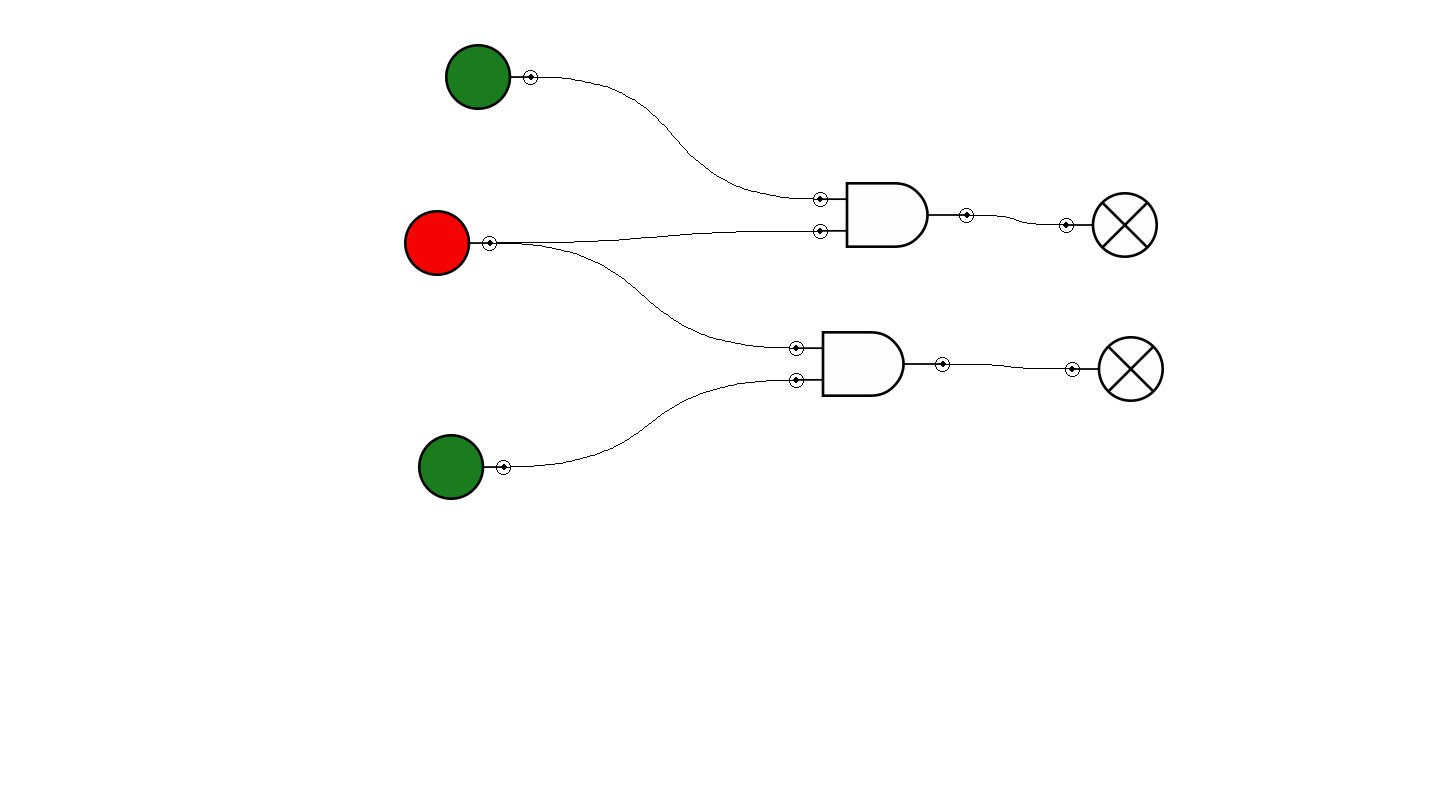and: (789, 331, 950, 397), (813, 182, 974, 248)
bulb: (1059, 192, 1158, 258), (1065, 336, 1164, 402)
switch_False: (404, 210, 497, 276)
switch_True: (445, 44, 538, 110), (418, 434, 511, 500)
